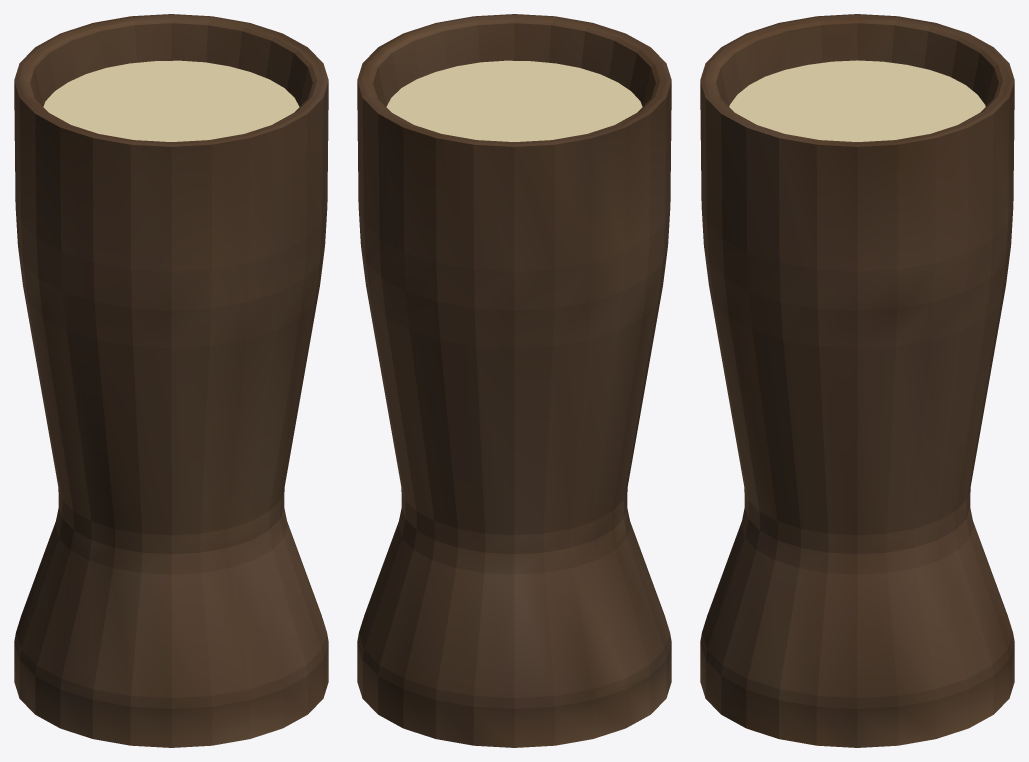
Rendered from filled_grain.glb.
The picture shows the model from 3 angles, left to right: view 1: azimuth 30°, elevation 25°; view 2: azimuth 150°, elevation 25°; view 3: azimuth 270°, elevation 25°; orthographic projection.
Visible parts, largest first — view 1: SM_Mortar_M_Mortar_0, variant_grain_surface; view 2: SM_Mortar_M_Mortar_0, variant_grain_surface; view 3: SM_Mortar_M_Mortar_0, variant_grain_surface.
Boxes of the visible parts, left/top/right/bottom form: SM_Mortar_M_Mortar_0: left=14, top=14, right=328, bottom=747; variant_grain_surface: left=43, top=60, right=299, bottom=141; SM_Mortar_M_Mortar_0: left=357, top=14, right=671, bottom=747; variant_grain_surface: left=386, top=60, right=642, bottom=141; SM_Mortar_M_Mortar_0: left=700, top=14, right=1014, bottom=747; variant_grain_surface: left=729, top=60, right=985, bottom=141.
Bounding box in the file's own units: 0.36 × 0.7595 × 0.36.
